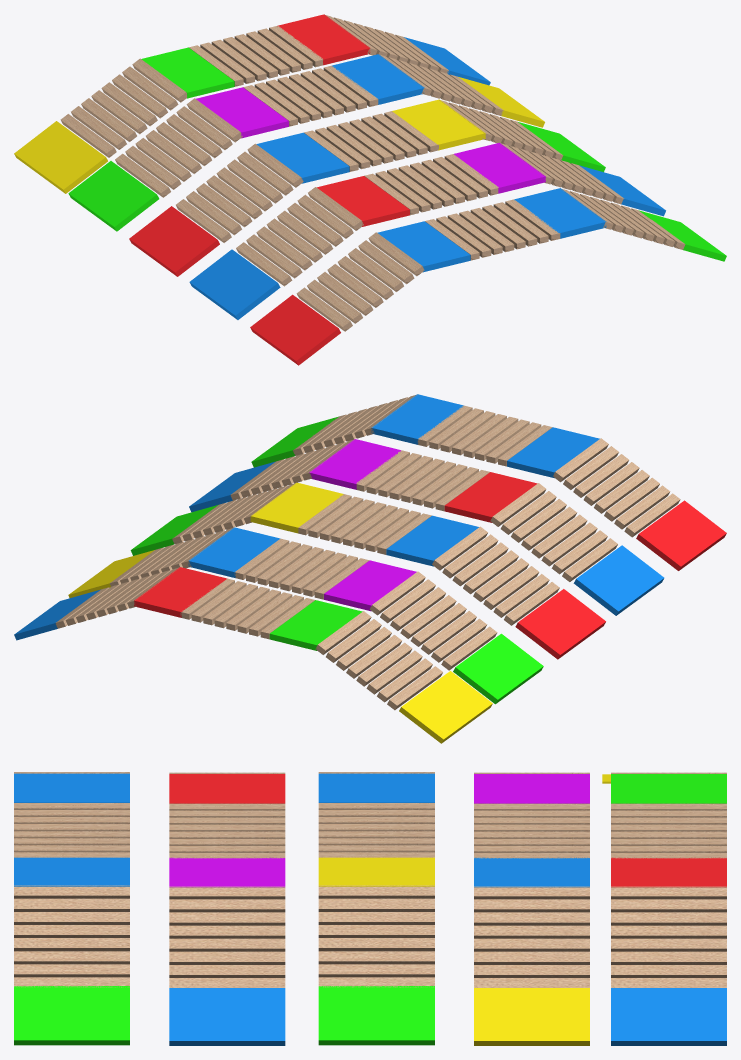
File: professional-bridge-complete-textured.glb
The picture shows the model from 3 angles, top to bottom: view 1: azimuth 30°, elevation 25°; view 2: azimuth 150°, elevation 25°; view 3: azimuth 270°, elevation 25°; orthographic projection. The views are drawn at different scales.
Visible parts, largest first — view 1: Material_004-material_9, Material_004-material_12, Material_004-material_6, Material_004-material_3, Material_004-material, Material_004-material_14, Material_004-material_11, Material_004-material_5, Material_004-material_2, Material_004-material_8, Material_002-material, Material_027-material (+23 smaller); view 2: Material_004-material_9, Material_004-material_6, Material_004-material_3, Material_004-material_12, Material_004-material, Material_004-material_5, Material_004-material_14, Material_004-material_11, Material_004-material_2, Material_004-material_8, Material_002-material, Material_026-material (+23 smaller); view 3: Material_004-material_7, Material_004-material_10, Material_004-material_13, Material_004-material_1, Material_004-material_4, Material_024-material, Material_022-material, Material_023-material, Material_018-material, Material_002-material_3, Material_004-material_11, Material_004-material_2 (+13 smaller).
Boxes of the visible parts, x1,y1,x2,y2 form: Material_004-material_9: (236, 187, 363, 286); Material_004-material_12: (296, 232, 424, 331); Material_004-material_6: (176, 143, 303, 242); Material_004-material_3: (115, 98, 242, 197); Material_004-material: (60, 58, 186, 157); Material_004-material_14: (425, 199, 560, 260); Material_004-material_11: (364, 154, 498, 215); Material_004-material_5: (243, 65, 378, 126); Material_004-material_2: (189, 25, 322, 86); Material_004-material_8: (304, 111, 438, 171); Material_002-material: (14, 121, 107, 193); Material_027-material: (68, 161, 159, 231); Material_004-material_9: (490, 483, 617, 581); Material_004-material_6: (432, 526, 559, 625); Material_004-material_3: (369, 571, 497, 670); Material_004-material_12: (553, 438, 680, 537); Material_004-material: (315, 611, 442, 710); Material_004-material_5: (234, 538, 369, 599); Material_004-material_14: (417, 405, 552, 466); Material_004-material_11: (356, 450, 489, 511); Material_004-material_2: (180, 578, 314, 639); Material_004-material_8: (298, 494, 431, 554); Material_002-material: (399, 671, 492, 743); Material_026-material: (515, 589, 605, 659); Material_004-material_7: (318, 885, 434, 987); Material_004-material_10: (169, 886, 285, 987); Material_004-material_13: (14, 885, 129, 987); Material_004-material_1: (611, 886, 726, 987); Material_004-material_4: (474, 886, 589, 987); Material_024-material: (318, 986, 434, 1045); Material_022-material: (14, 986, 129, 1045); Material_023-material: (169, 988, 285, 1045); Material_018-material: (611, 988, 726, 1045); Material_002-material_3: (474, 988, 589, 1045); Material_004-material_11: (169, 803, 285, 858); Material_004-material_2: (611, 803, 726, 858).
Size of the model in its own units: 55.4 by 8.54 by 62.92.
6 materials, 1 textured.
